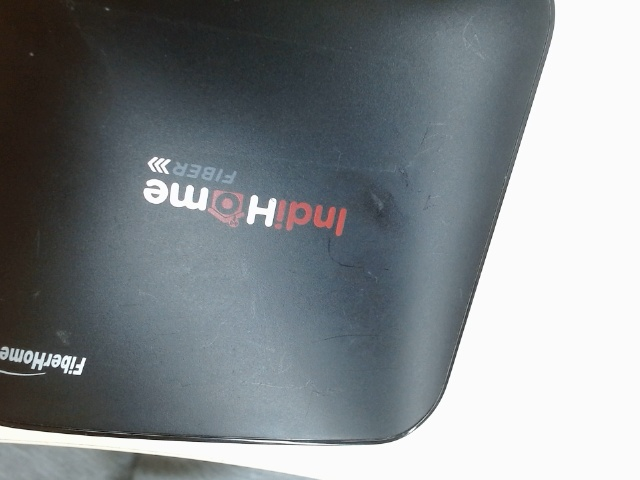AF_IndiHome: (117, 143, 356, 248)
